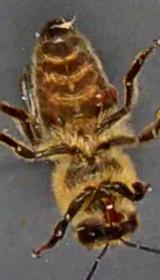varroa_mite: (84, 84, 123, 110)
